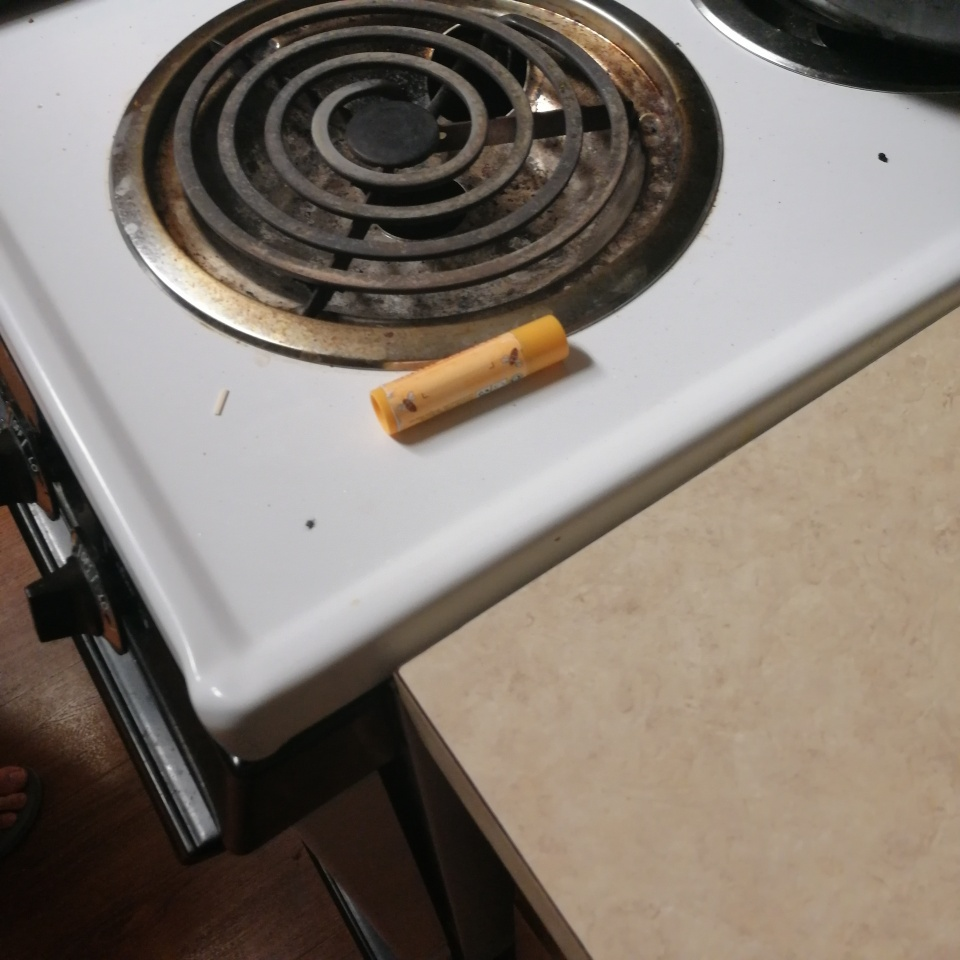chapstick: (367, 314, 571, 437)
